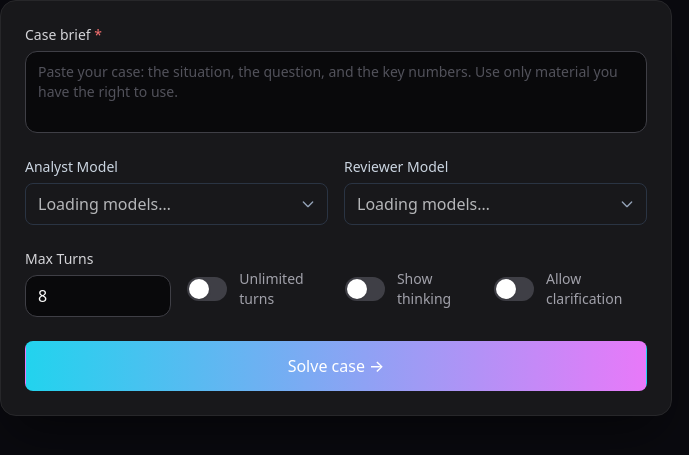
Test: TopicForm › shows validation error when topic is empty
The width and height of the screenshot is (689, 455).
Click the button "Solve case →".
click(336, 366)  # box [25, 341, 647, 391]
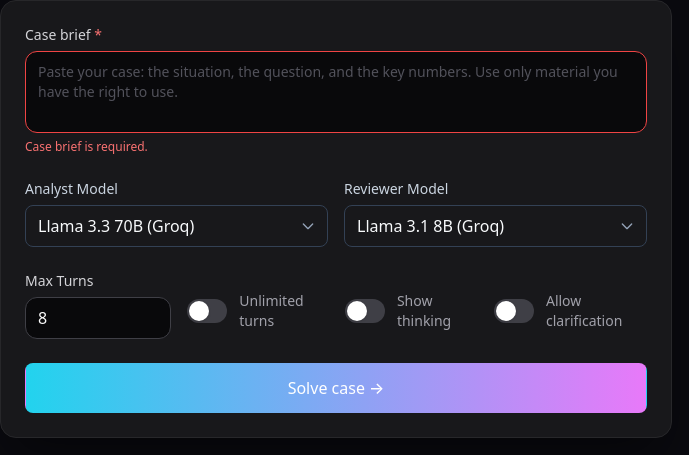
Now the message "Case brief is required." is shown, box [25, 138, 148, 155]
